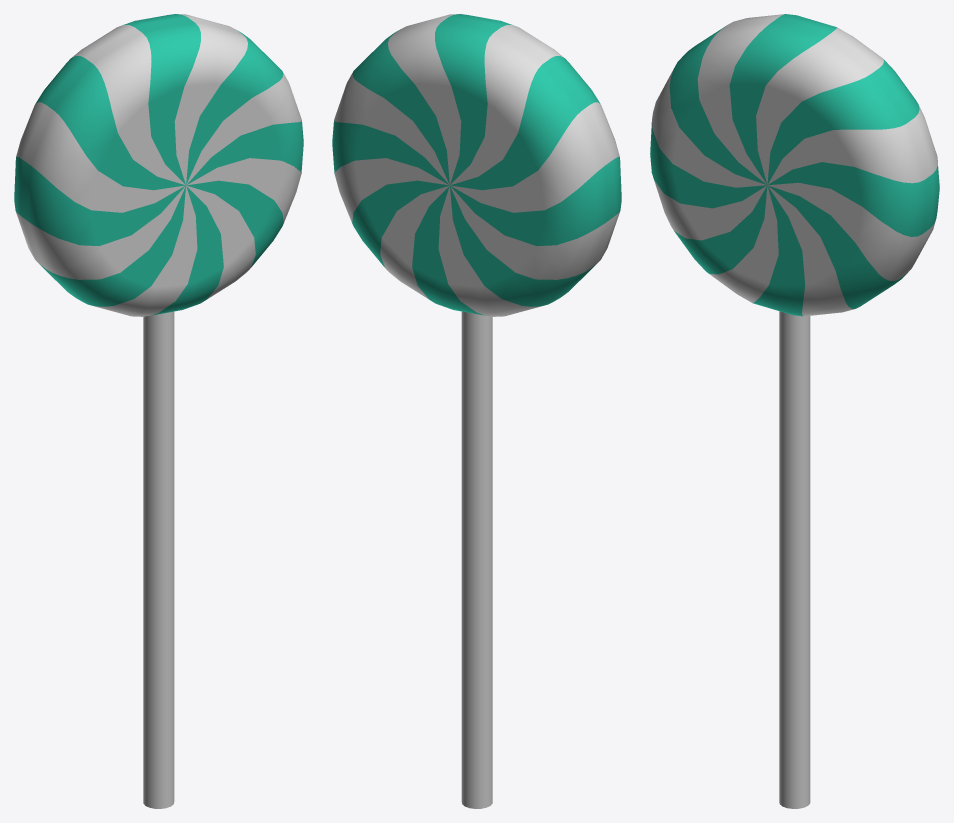
File: Prop_Lollipop.obj
The picture shows the model from 3 angles, left to right: view 1: azimuth 30°, elevation 25°; view 2: azimuth 150°, elevation 25°; view 3: azimuth 330°, elevation 25°; orthographic projection.
Parts seen in each view (by area): view 1: Mat_2, Mat_1, Stick; view 2: Mat_2, Mat_1, Stick; view 3: Mat_2, Mat_1, Stick.
Boxes of the visible parts, x1=… form: Mat_2: x1=16, y1=14, x2=301, y2=316; Mat_1: x1=14, y1=14, x2=303, y2=315; Stick: x1=143, y1=311, x2=174, y2=808; Mat_2: x1=334, y1=14, x2=619, y2=316; Mat_1: x1=332, y1=14, x2=621, y2=315; Stick: x1=461, y1=311, x2=492, y2=808; Mat_2: x1=652, y1=14, x2=937, y2=316; Mat_1: x1=650, y1=14, x2=939, y2=316; Stick: x1=779, y1=311, x2=810, y2=808.
Bounding box in the file's own units: 0.9983 × 2.75 × 0.35.
